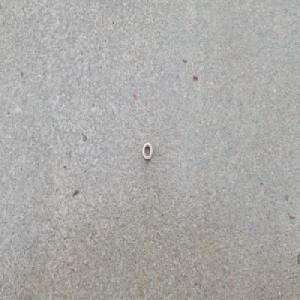Nut: (141, 141, 153, 161)
